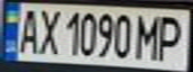0: (112, 10, 136, 60), (78, 8, 96, 57)
1: (60, 7, 81, 56)
9: (96, 10, 115, 58)
A: (12, 6, 42, 55)
M: (133, 11, 163, 61)
P: (154, 11, 190, 62)
X: (33, 7, 63, 56)
